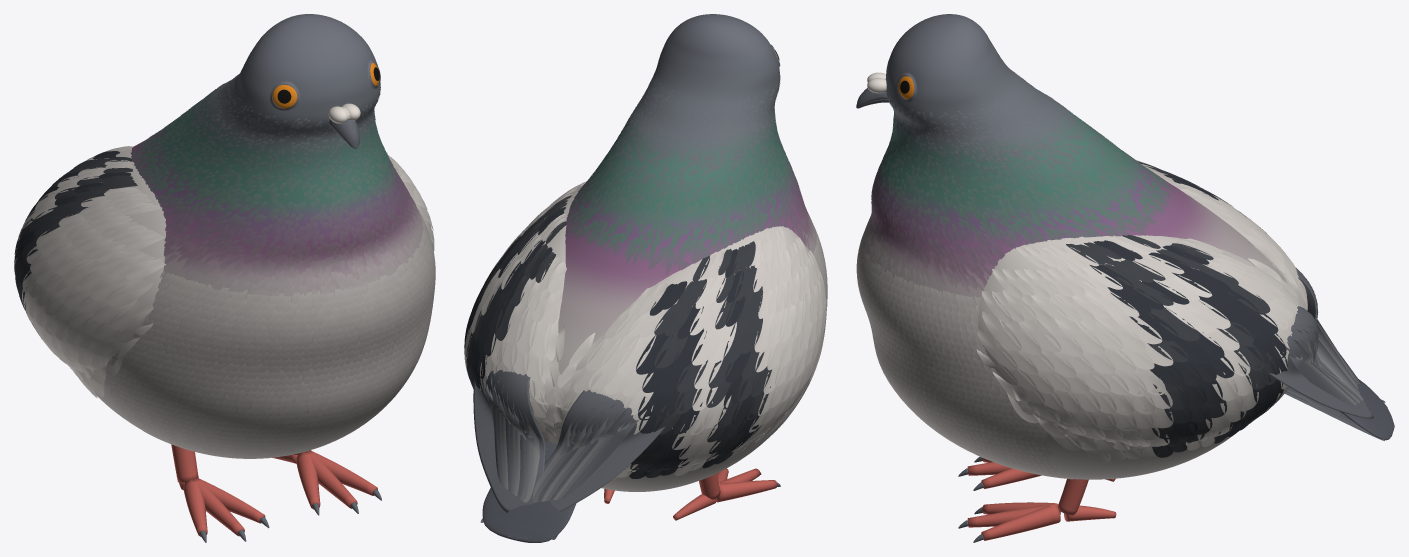
The model's file is pigeon.glb.
The picture shows the model from 3 angles, left to right: view 1: azimuth 30°, elevation 25°; view 2: azimuth 150°, elevation 25°; view 3: azimuth 270°, elevation 25°; orthographic projection. The views are drawn at different scales.
Parts seen in each view (by area): view 1: Body_neck_head_continuous, Plumage_neck_gradient, Plumage_breast_0, Plumage_breast_1, Plumage_breast_2, Plumage_covert_1, Plumage_covert_0, Plumage_covert_2, Plumage_bar_1, Wing_shoulder_wrapped_Right, Plumage_bar_0, Plumage_head_1 (+11 smaller); view 2: Body_neck_head_continuous, Plumage_neck_gradient, Plumage_covert_0, Plumage_bar_1, Plumage_covert_1, Plumage_bar_0, Plumage_covert_2, Wing_folded_flight_bundle_Right, Wing_folded_flight_bundle_Left, Plumage_flight_0, Tail_anatomical_envelope, Plumage_flight_2 (+8 smaller); view 3: Body_neck_head_continuous, Plumage_neck_gradient, Plumage_covert_0, Plumage_covert_2, Plumage_covert_1, Plumage_bar_0, Plumage_bar_1, Plumage_breast_0, Plumage_breast_2, Plumage_breast_1, Wing_folded_flight_bundle_Left, Wing_shoulder_wrapped_Left (+10 smaller).
Part boxes in pixels (x1,y1,x2,y2): Body_neck_head_continuous: [94, 14, 432, 457]; Plumage_neck_gradient: [130, 74, 422, 303]; Plumage_breast_0: [105, 211, 435, 458]; Plumage_breast_1: [106, 215, 435, 458]; Plumage_breast_2: [110, 219, 435, 458]; Plumage_covert_1: [22, 152, 432, 396]; Plumage_covert_0: [14, 147, 433, 398]; Plumage_covert_2: [16, 146, 434, 380]; Plumage_bar_1: [14, 157, 137, 310]; Wing_shoulder_wrapped_Right: [89, 148, 166, 318]; Plumage_bar_0: [14, 151, 130, 338]; Plumage_head_1: [215, 16, 379, 140]; Body_neck_head_continuous: [554, 14, 826, 491]; Plumage_neck_gradient: [565, 75, 817, 275]; Plumage_covert_0: [464, 193, 826, 477]; Plumage_bar_1: [466, 195, 772, 477]; Plumage_covert_1: [464, 181, 826, 479]; Plumage_bar_0: [464, 207, 764, 478]; Plumage_covert_2: [480, 182, 824, 463]; Wing_folded_flight_bundle_Right: [544, 390, 665, 511]; Wing_folded_flight_bundle_Left: [473, 370, 546, 512]; Plumage_flight_0: [484, 377, 638, 502]; Tail_anatomical_envelope: [482, 442, 576, 542]; Plumage_flight_2: [488, 372, 625, 502]; Body_neck_head_continuous: [859, 14, 1288, 479]; Plumage_neck_gradient: [861, 71, 1176, 293]; Plumage_covert_0: [981, 160, 1306, 462]; Plumage_covert_2: [976, 164, 1307, 457]; Plumage_covert_1: [994, 205, 1307, 459]; Plumage_bar_0: [1090, 166, 1287, 436]; Plumage_bar_1: [1066, 161, 1277, 457]; Plumage_breast_0: [856, 244, 1062, 477]; Plumage_breast_2: [857, 236, 1075, 479]; Plumage_breast_1: [856, 234, 1061, 478]; Wing_folded_flight_bundle_Left: [1269, 306, 1373, 418]; Wing_shoulder_wrapped_Left: [977, 235, 1226, 351].
Bounding box in the file's own units: 0.7215 × 0.9977 × 1.01.
